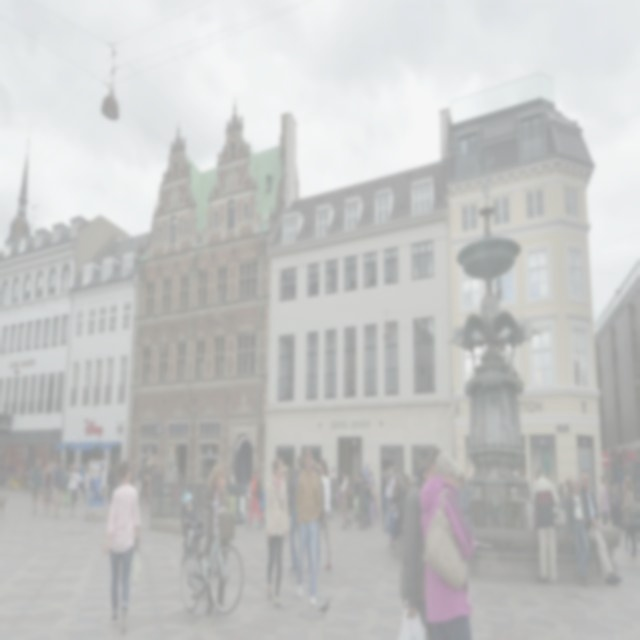pessoa: (419, 448, 479, 639), (398, 446, 444, 638), (102, 454, 144, 638), (578, 471, 623, 586), (294, 444, 324, 611), (264, 456, 292, 614), (440, 462, 476, 584), (202, 462, 230, 618), (530, 461, 560, 587), (564, 478, 590, 590), (302, 457, 326, 575), (288, 453, 306, 575), (180, 489, 207, 562), (620, 474, 640, 562), (318, 456, 333, 572), (390, 471, 408, 542), (139, 461, 164, 512), (386, 472, 404, 542), (79, 459, 97, 522), (246, 470, 264, 530), (68, 461, 86, 520), (52, 454, 68, 520), (28, 454, 44, 518), (364, 465, 379, 528), (354, 466, 368, 530), (339, 468, 352, 531), (599, 472, 611, 528), (44, 462, 56, 518), (6, 464, 28, 494), (252, 476, 264, 528), (382, 468, 392, 526), (562, 477, 572, 527), (609, 486, 620, 530), (388, 463, 398, 508), (62, 464, 70, 511), (558, 480, 567, 515), (403, 472, 411, 488)
